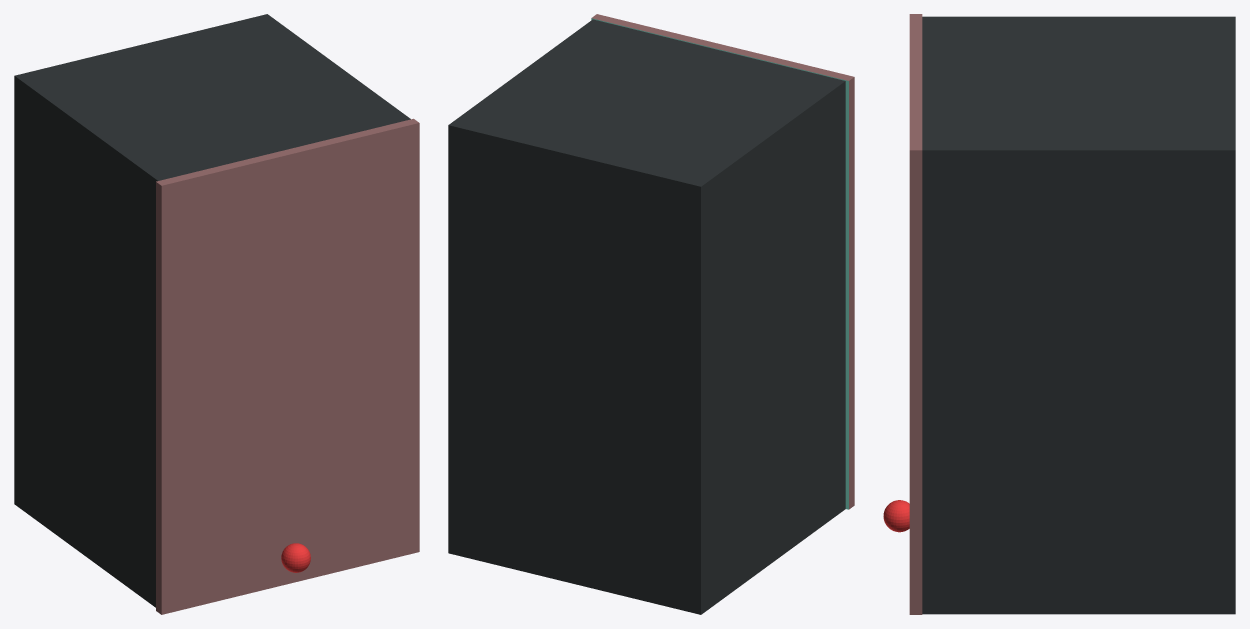
The model's file is Cabinet.fbx.
The picture shows the model from 3 angles, left to right: view 1: azimuth 30°, elevation 25°; view 2: azimuth 150°, elevation 25°; view 3: azimuth 270°, elevation 25°; orthographic projection. The views are drawn at different scales.
Parts seen in each view (by area): view 1: Cube.001, Cube; view 2: Cube, Cube.001; view 3: Cube, Cube.001.
Part boxes in pixels (x1=…): Cube.001: x1=156, y1=118, x2=419, y2=614; Cube: x1=14, y1=14, x2=410, y2=607; Cube: x1=448, y1=19, x2=845, y2=614; Cube.001: x1=591, y1=14, x2=854, y2=509; Cube: x1=922, y1=16, x2=1235, y2=614; Cube.001: x1=883, y1=14, x2=922, y2=614.
Size of the model in its own units: 204 by 324 by 223.
